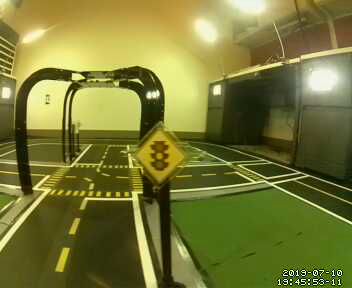Traffic light sign: (133, 128, 185, 181)
